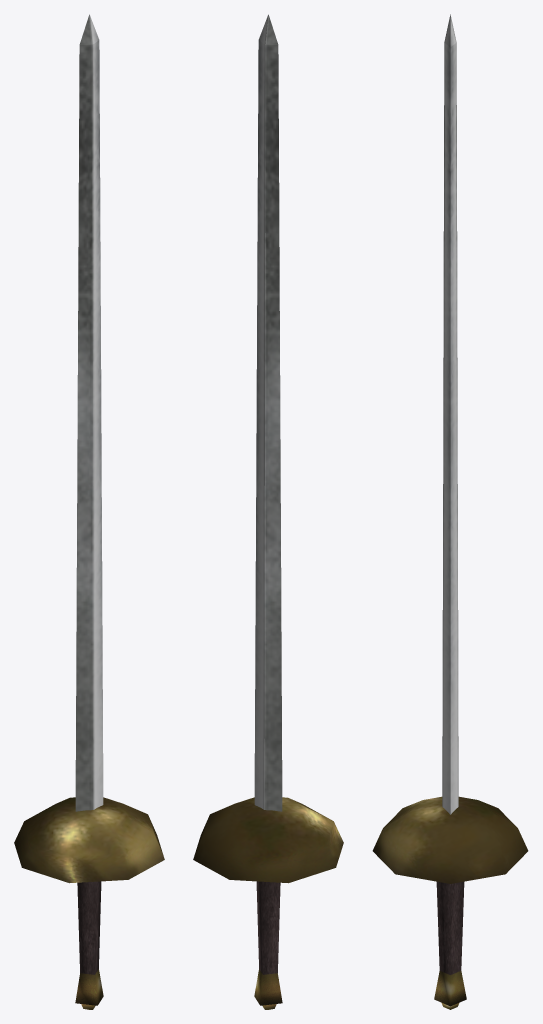
Rendered from Rapier.fbx.
3 renders of one model, left to right at view 1: azimuth 30°, elevation 25°; view 2: azimuth 150°, elevation 25°; view 3: azimuth 270°, elevation 25°, orthographic.
Visible parts, largest first — view 1: Rapier; view 2: Rapier; view 3: Rapier.
Boxes of the visible parts, x1,y1,x2,y2 form: Rapier: (14,14,164,1009); Rapier: (193,14,343,1009); Rapier: (372,14,528,1009).
Bounding box in the file's own units: 15 × 106 × 15.
Materials: 1 (1 with a texture image).
